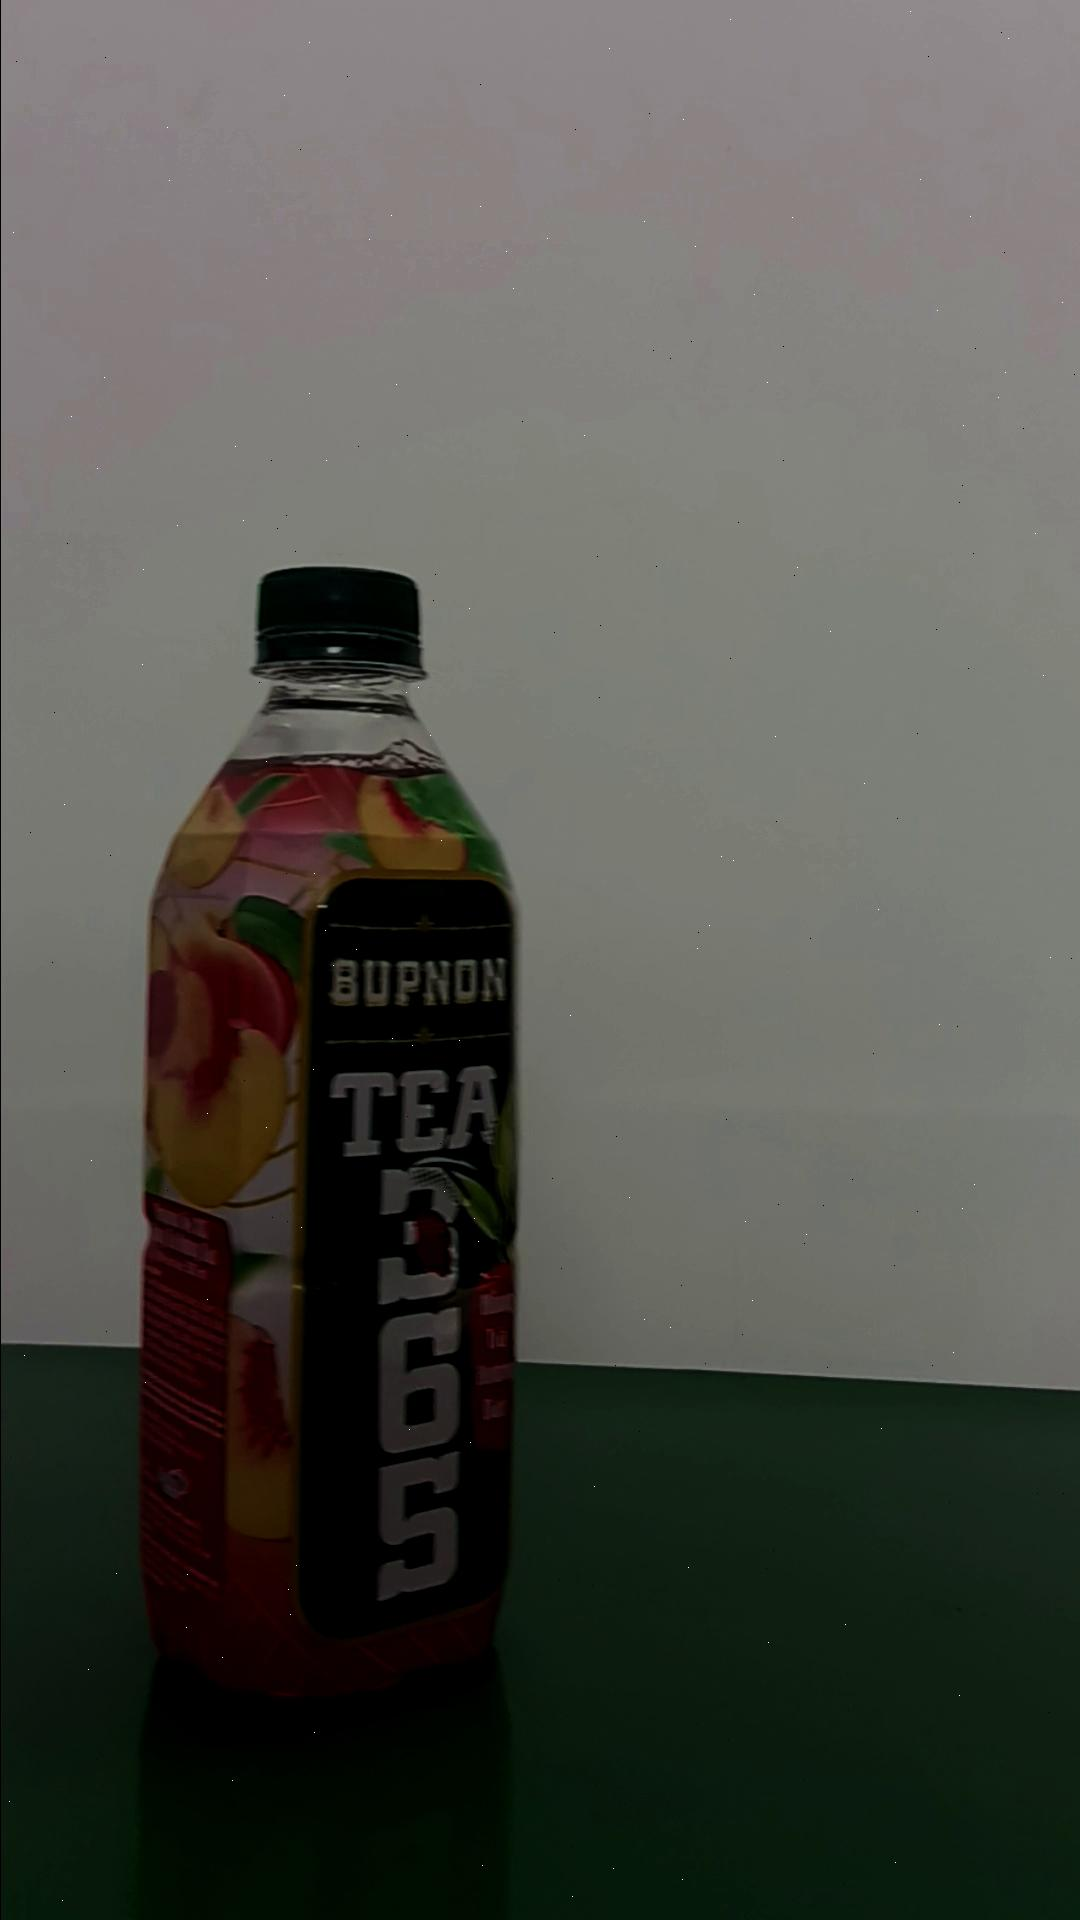loi rach va lap chai: (137, 558, 524, 1729)
